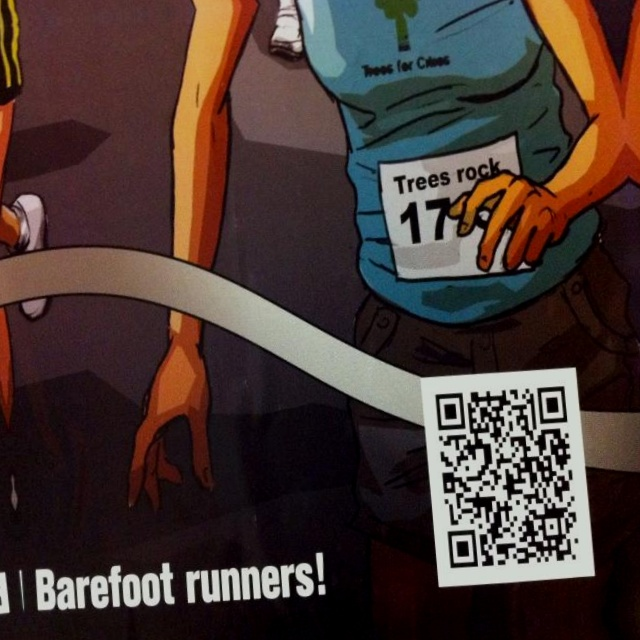qr-code: (435, 383, 580, 570)
